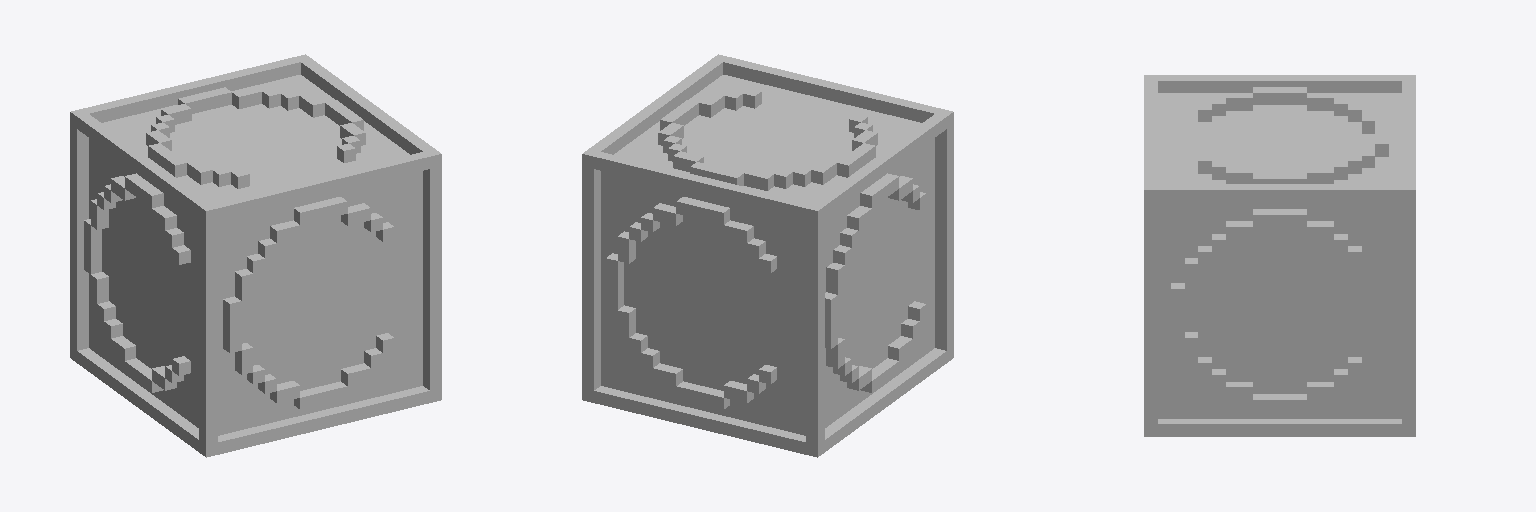
File: alphabet C.obj
3 renders of one model, left to right at view 1: azimuth 30°, elevation 25°; view 2: azimuth 150°, elevation 25°; view 3: azimuth 270°, elevation 25°, orthographic.
Visible parts, largest first — view 1: object 1; view 2: object 1; view 3: object 1.
Boxes of the visible parts, x1,y1,x2,y2 form: object 1: [70, 54, 441, 457]; object 1: [582, 54, 953, 457]; object 1: [1144, 75, 1415, 436].
Size of the model in its own units: 2 by 2 by 2.